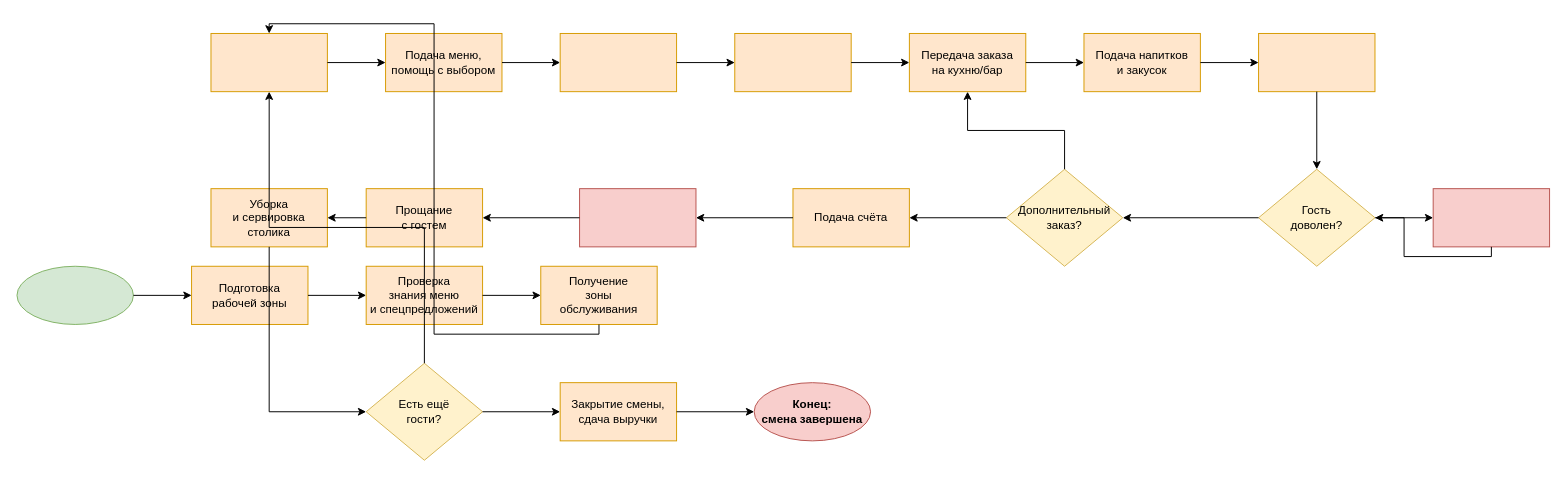
Some shapes in this 1567 by 477 pixel diagram are drawn without their labels. The centre of each missing label's shape, as x and y in pixels:
Встреча гостя, приветствие: [268,62]
Начало: смена начата: [74,294]
Подача основных блюд: [1316,62]
Приём заказа: [618,62]
Приём оплаты (нал/карта/QR): [637,217]
Решение проблемы / замена блюда: [1491,217]
Уточнение пожеланий (аллергии, степень прожарки): [792,62]
